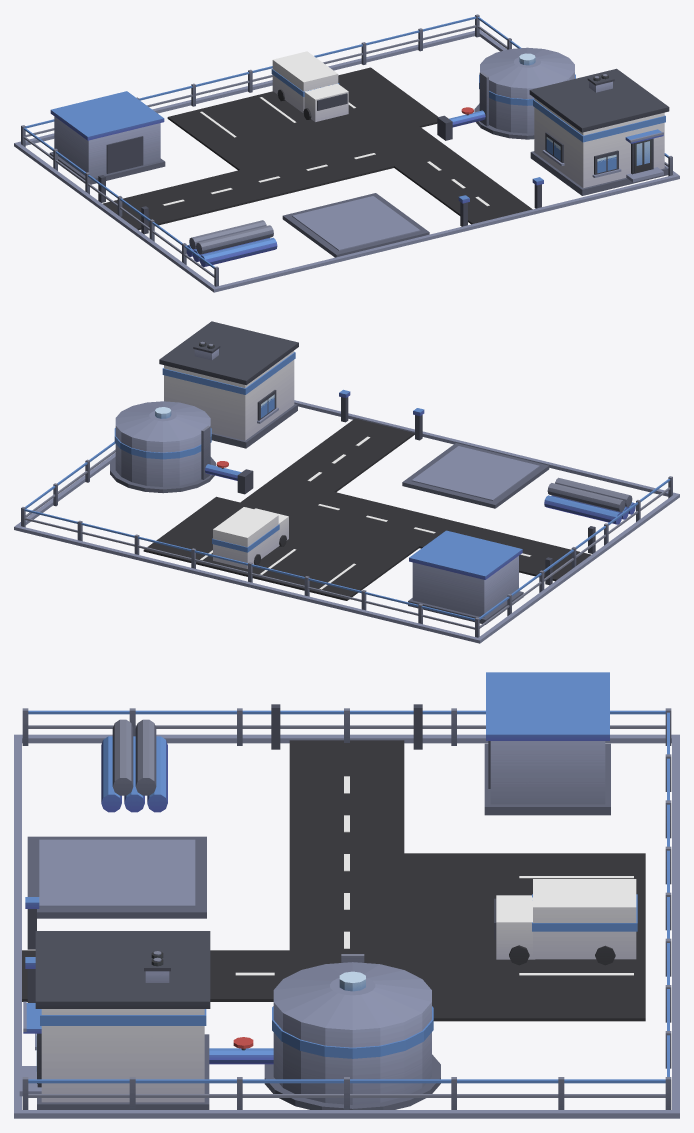
Rendered from water_station.glb.
The picture shows the model from 3 angles, top to bottom: view 1: azimuth 30°, elevation 25°; view 2: azimuth 150°, elevation 25°; view 3: azimuth 270°, elevation 25°; orthographic projection. The views are drawn at different scales.
Parts seen in each view (by area): view 1: water_station; view 2: water_station; view 3: water_station.
Boxes of the visible parts, x1,y1,x2,y2 form: water_station: (14,14,679,292); water_station: (14,321,679,643); water_station: (14,672,679,1118).
Bounding box in the file's own units: 7.8 × 1.28 × 5.8.
1 material, 1 textured.
